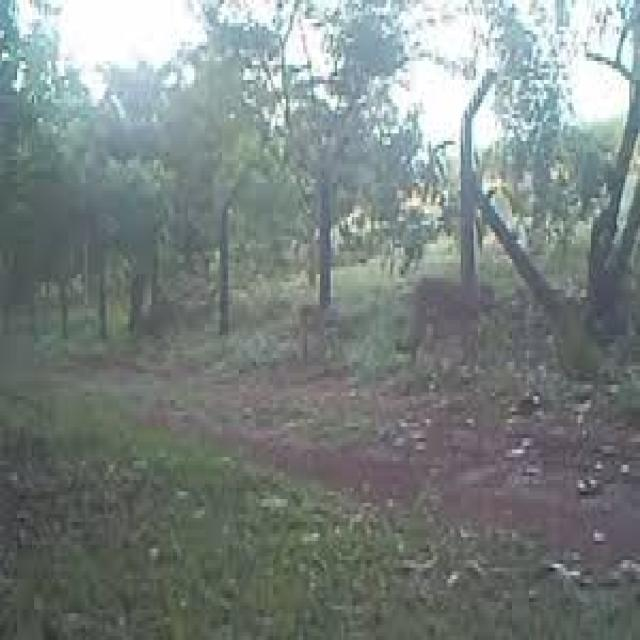Jaguar: (401, 271, 486, 358)
